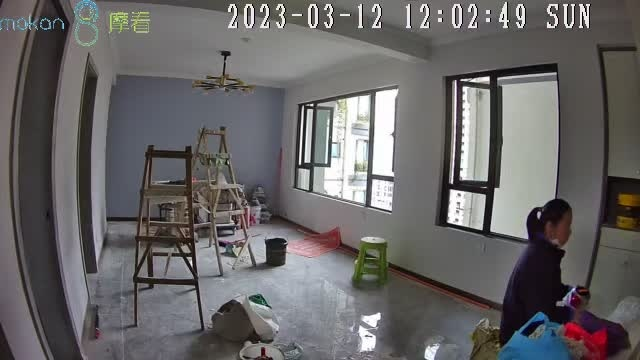people: (499, 199, 577, 345)
window: (443, 69, 559, 236), (292, 84, 396, 212)
